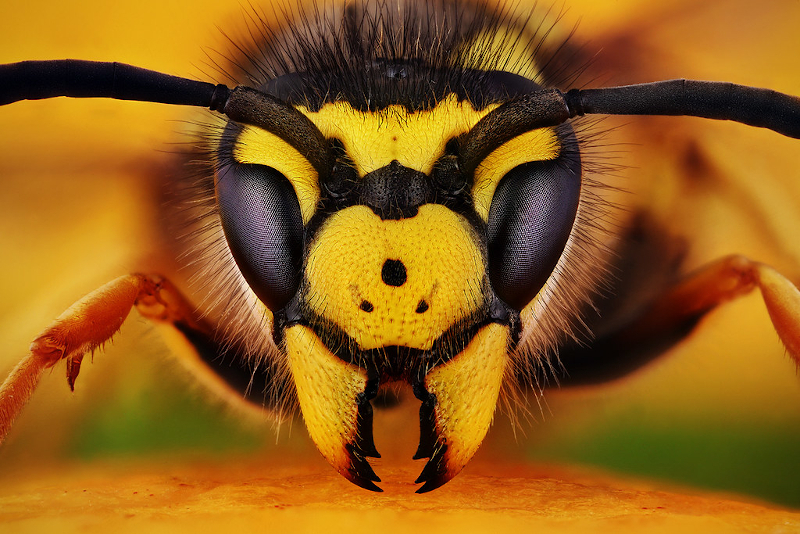chax: (5, 4, 800, 506)
